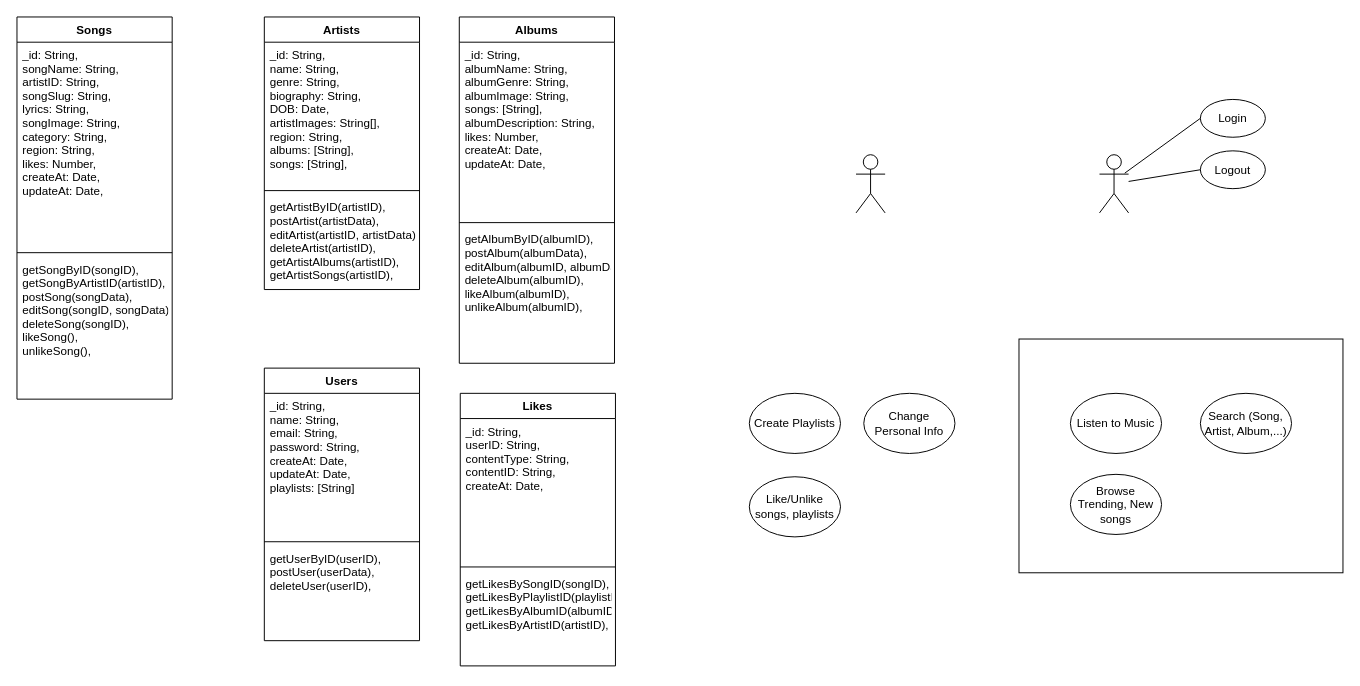
Some shapes in this 1360 by 686 pixel diagram are drawn without their labels. Each missing label, with the centre of its shape:
"Guest" belongs at point 1114,183.
"User" belongs at point 870,183.
